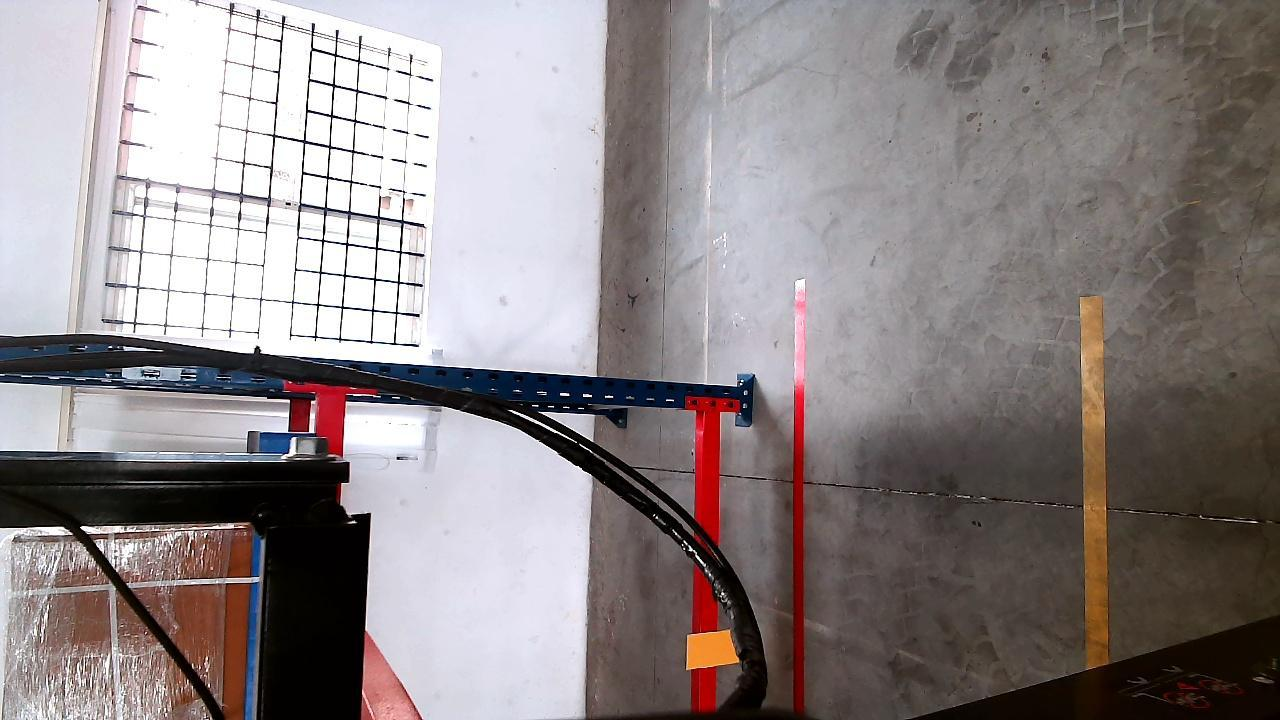red_line: (796, 278, 809, 715)
yellow_line: (1081, 292, 1112, 665)
